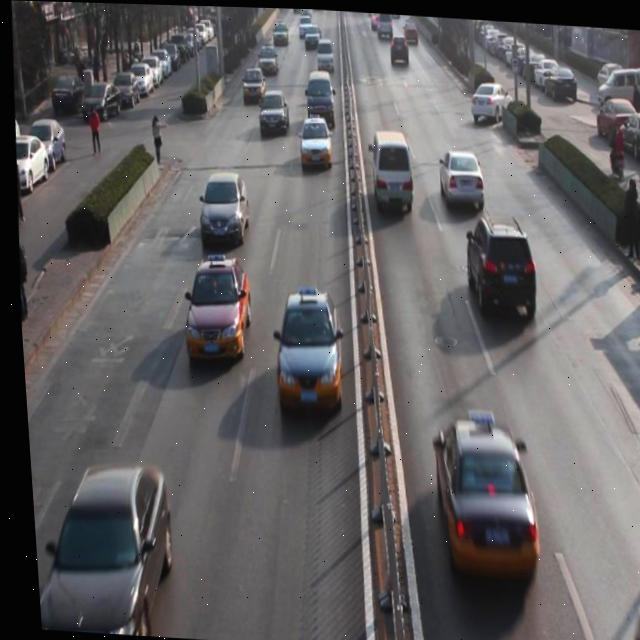car: (25, 468, 170, 637), (422, 410, 537, 582), (266, 285, 342, 417), (458, 209, 538, 321), (176, 252, 251, 365), (191, 168, 250, 247), (432, 142, 486, 212), (295, 113, 332, 170), (468, 73, 510, 122), (255, 86, 290, 137), (239, 61, 266, 103), (254, 39, 278, 75)
truck: (361, 125, 414, 216), (301, 66, 336, 124), (313, 35, 334, 71)
